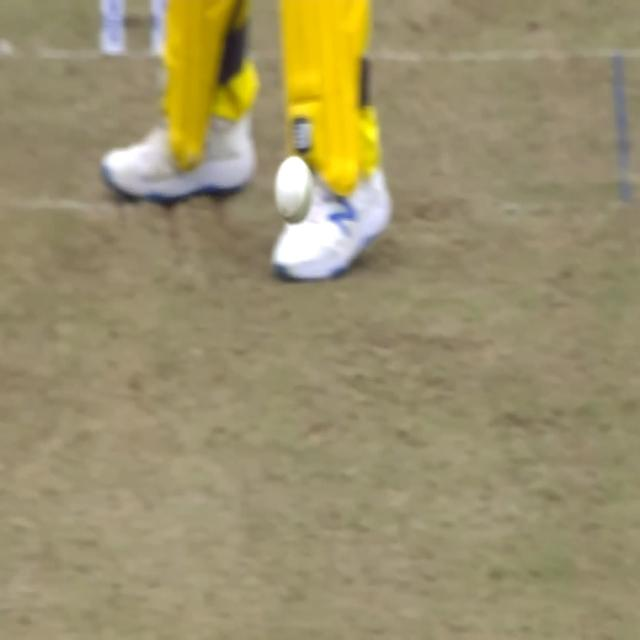ball: (272, 152, 313, 225)
